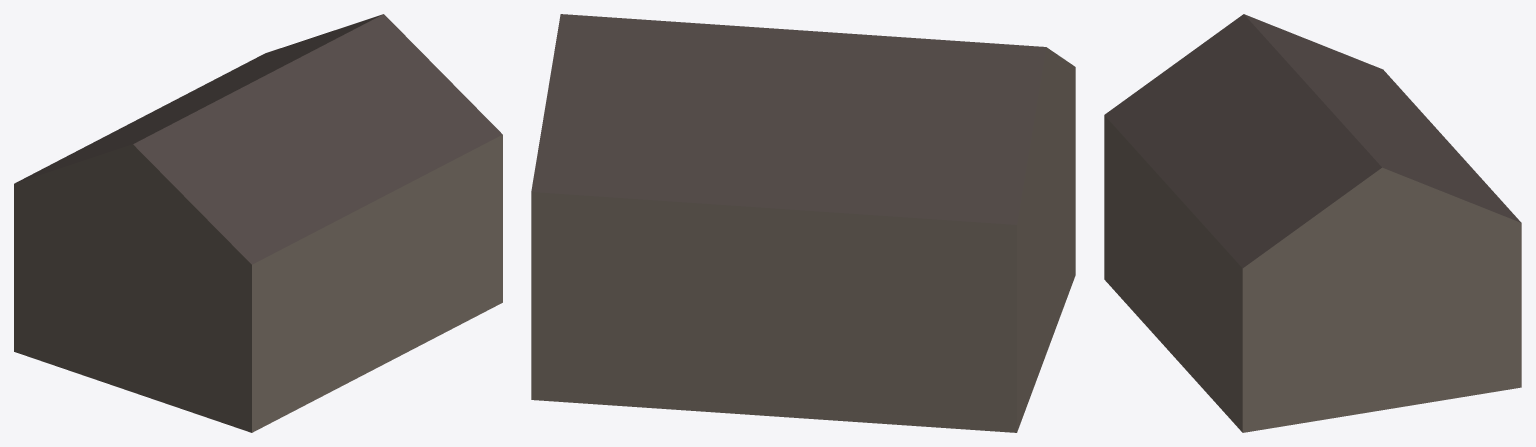
The picture shows the model from 3 angles, left to right: view 1: azimuth 30°, elevation 25°; view 2: azimuth 150°, elevation 25°; view 3: azimuth 270°, elevation 25°; orthographic projection. The views are drawn at different scales.
Visible parts, largest first — view 1: HP-w859082470; view 2: HP-w859082470; view 3: HP-w859082470.
Part boxes in pixels (x1,y1,x2,y2): HP-w859082470: (14,14,502,432); HP-w859082470: (531,14,1075,432); HP-w859082470: (1104,14,1521,432).
Size of the model in its own units: 15.57 by 8.85 by 13.8.
